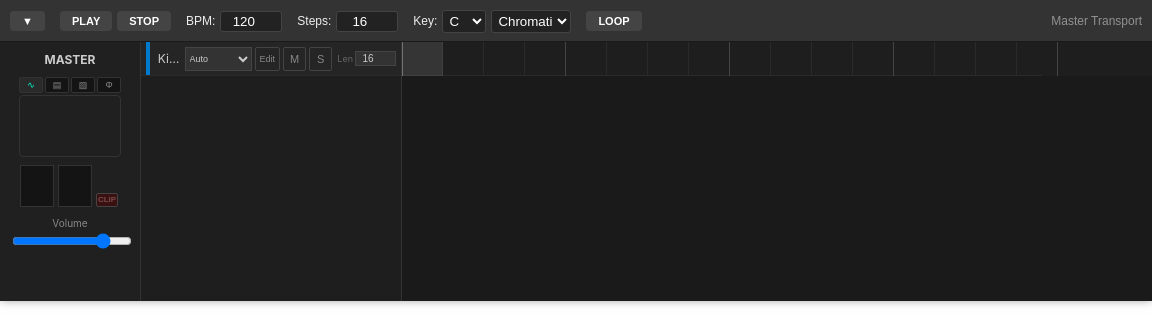
Test: SequencerDock — explicit Piano Roll / Drum Roll toggle in the open editor (F4 item 3) › leaves the TrackList selector in sync after a header-toggle switch
The width and height of the screenshot is (1152, 323).
Click the button "Edit".
click(267, 58)  # box [254,46,280,70]
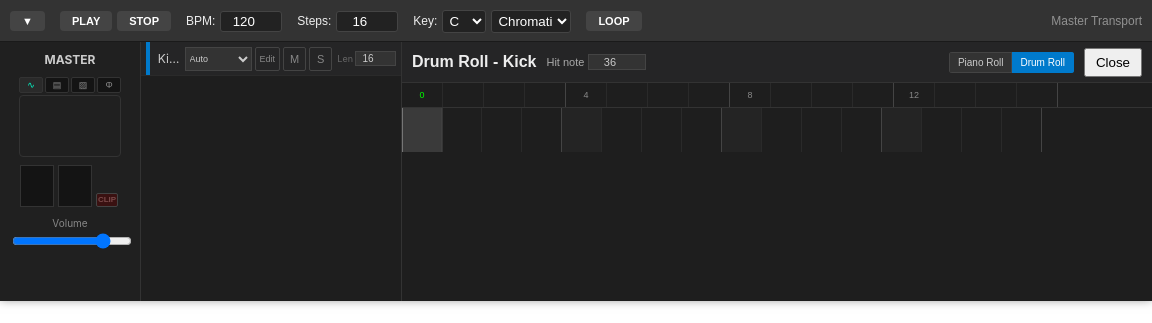
Click the button with test id "view-mode-toggle-piano".
click(981, 62)  # box [949,52,1012,72]
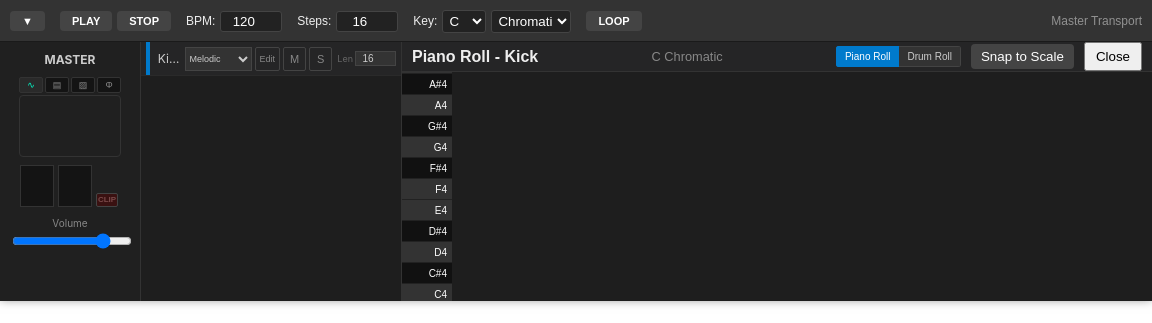
Expected: the dropdown with test id "^track-view-mode-" shows "Melodic", [184,46,252,70]
